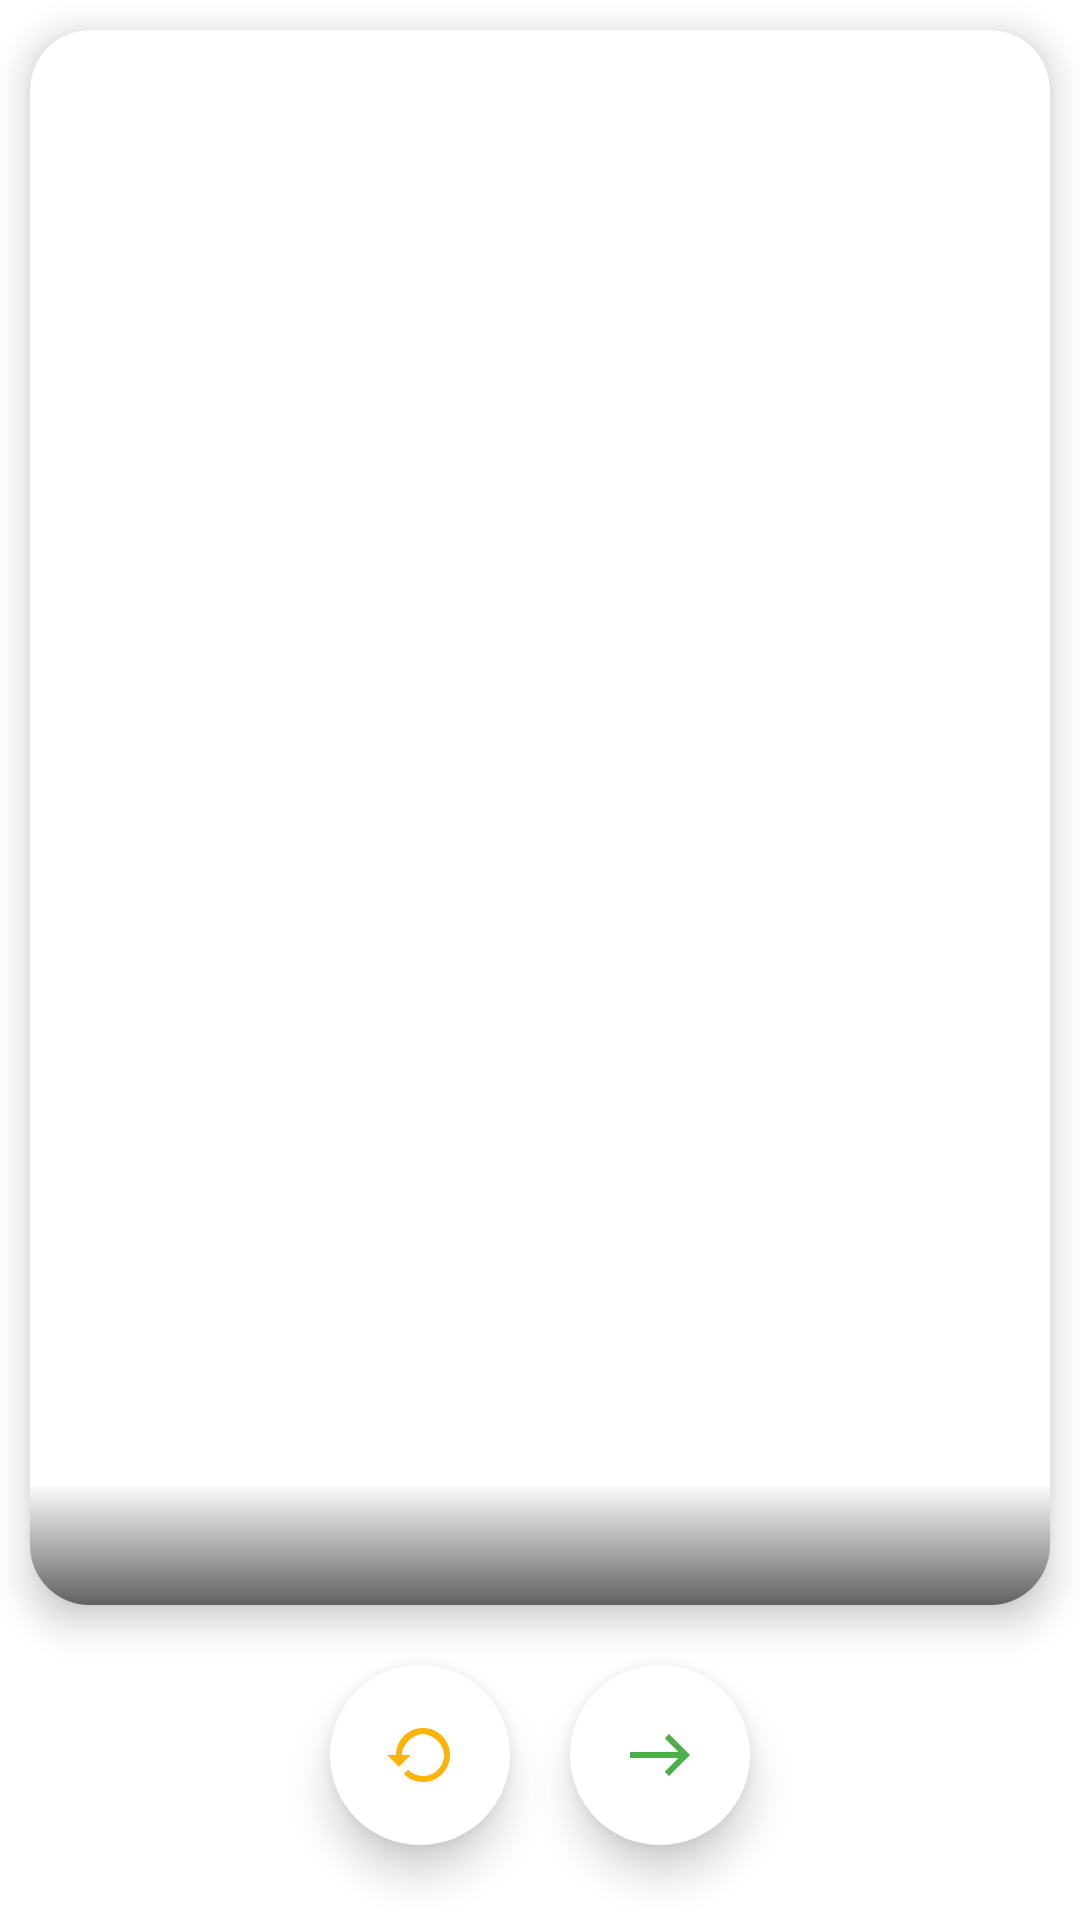

Screen size 1080×1920. Icon name, then its center in pixels as (x=x, y=y):
east: (x=661, y=1789)
restore: (x=419, y=1786)
